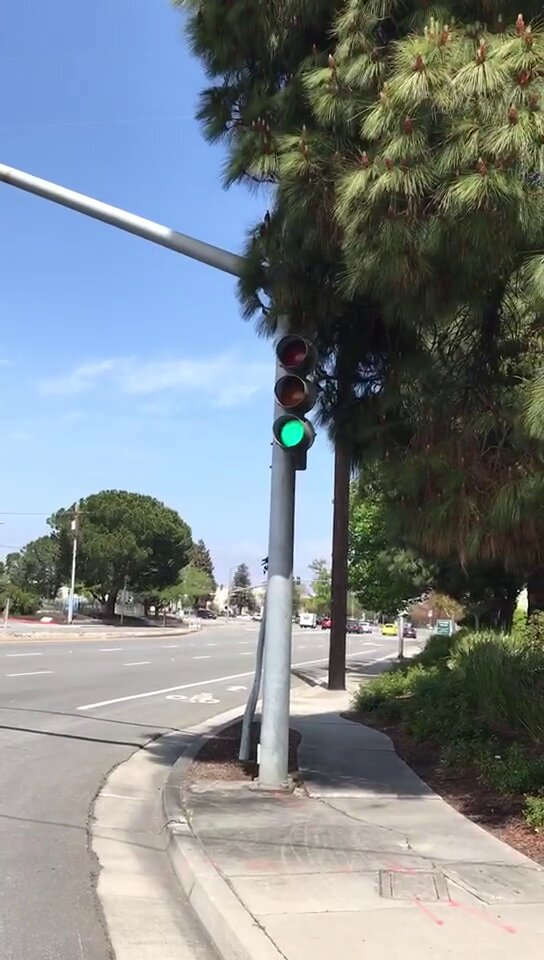green_light: (275, 332, 312, 452)
